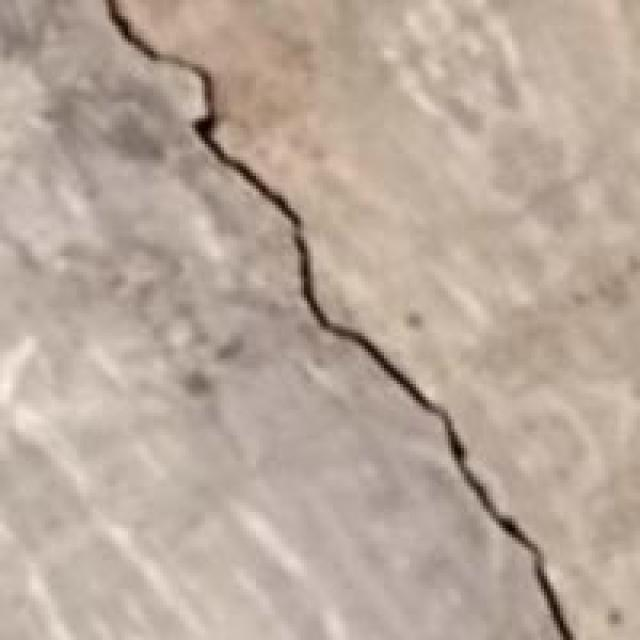Crack: (77, 0, 582, 637)
